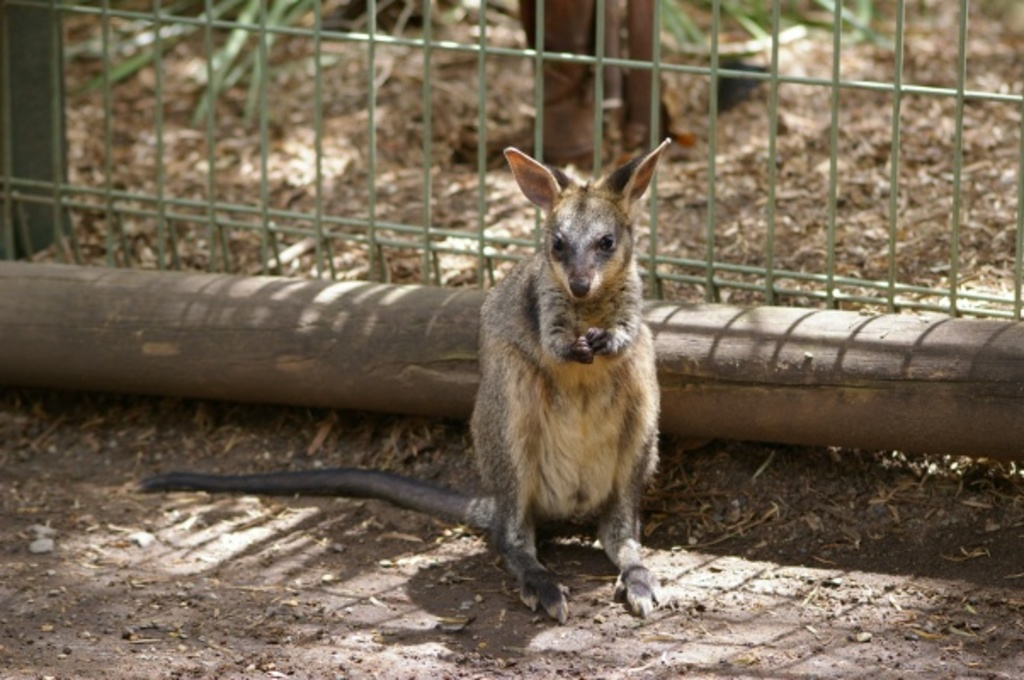kangaroo: (139, 136, 673, 627)
